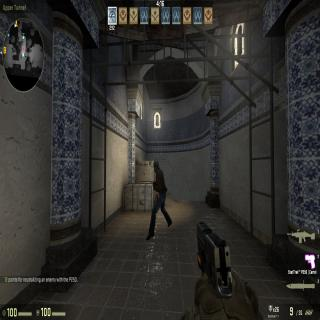T-Body: (150, 159, 169, 241)
T-Head: (153, 160, 159, 172)
